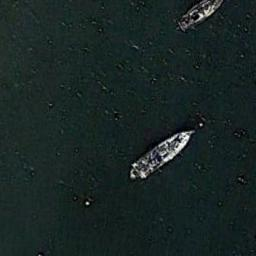boat: (130, 126, 196, 179), (174, 0, 225, 32)
